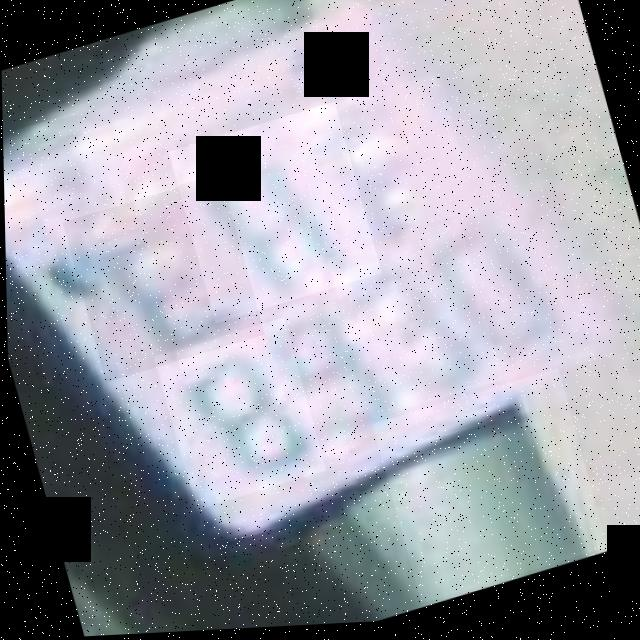0: (404, 192, 589, 397)
3: (60, 175, 264, 385), (326, 221, 501, 424)
7: (369, 372, 605, 609)
8: (151, 318, 324, 513)
9: (234, 264, 420, 468)
N: (167, 104, 381, 328)
P: (287, 75, 477, 262)
